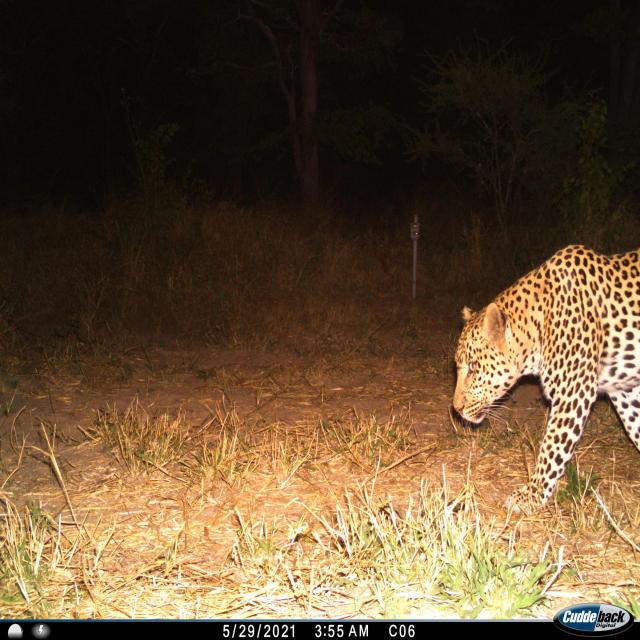Leopard: (449, 242, 640, 520)
